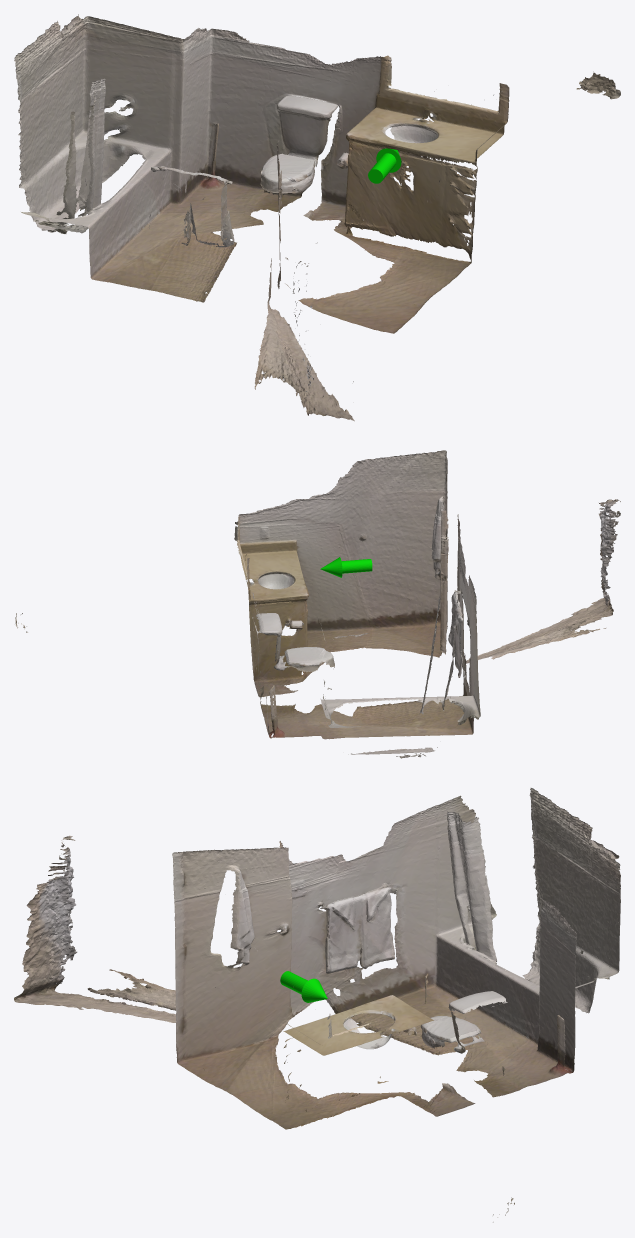
File: situation_1.glb
The picture shows the model from 3 angles, top to bottom: view 1: azimuth 30°, elevation 25°; view 2: azimuth 150°, elevation 25°; view 3: azimuth 270°, elevation 25°; orthographic projection. The views are drawn at different scales.
Visible parts, largest first — view 1: world; view 2: world; view 3: world.
Boxes of the visible parts, x1,y1,x2,y2 form: world: [14, 14, 620, 421]; world: [15, 450, 620, 758]; world: [14, 788, 620, 1222].
Size of the model in its own units: 5.19 by 1.87 by 4.73.
